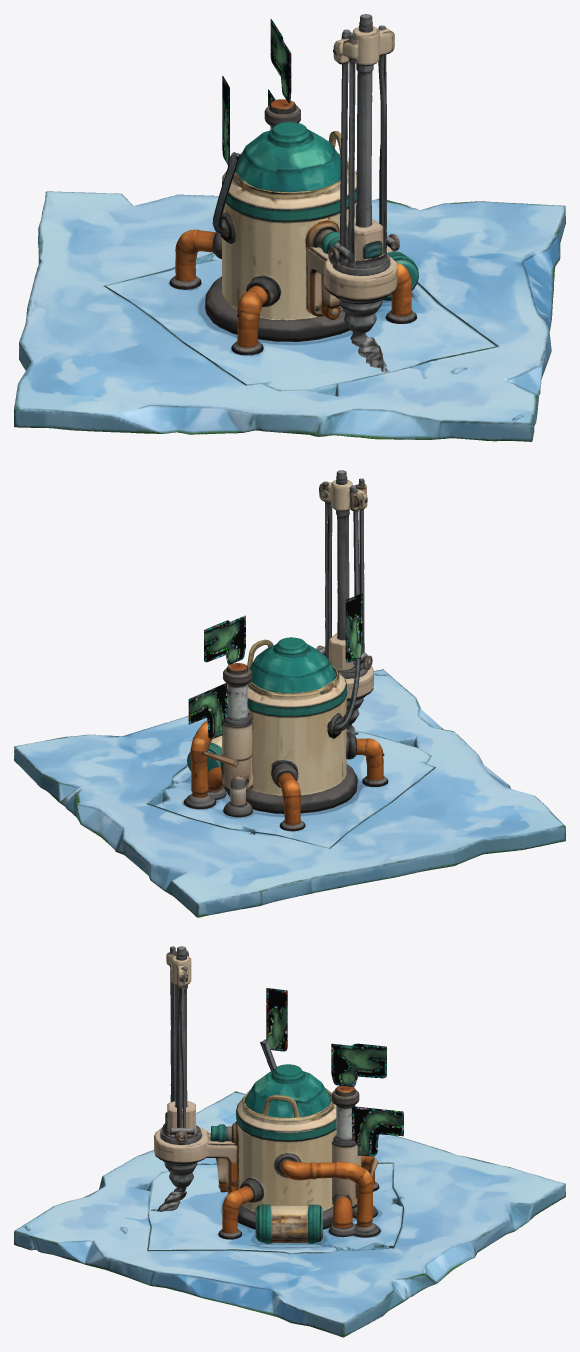
Rendered from burovaya-03.glb.
The picture shows the model from 3 angles, top to bottom: view 1: azimuth 30°, elevation 25°; view 2: azimuth 150°, elevation 25°; view 3: azimuth 270°, elevation 25°; orthographic projection. The views are drawn at different scales.
Parts seen in each view (by area): view 1: geometry_0; view 2: geometry_0; view 3: geometry_0.
Boxes of the visible parts, bbox=[...] form: geometry_0: bbox=[14, 14, 565, 441]; geometry_0: bbox=[14, 470, 565, 917]; geometry_0: bbox=[14, 946, 565, 1337].
Size of the model in its own units: 0.9673 by 0.5685 by 0.9695.
1 material, 1 textured.
